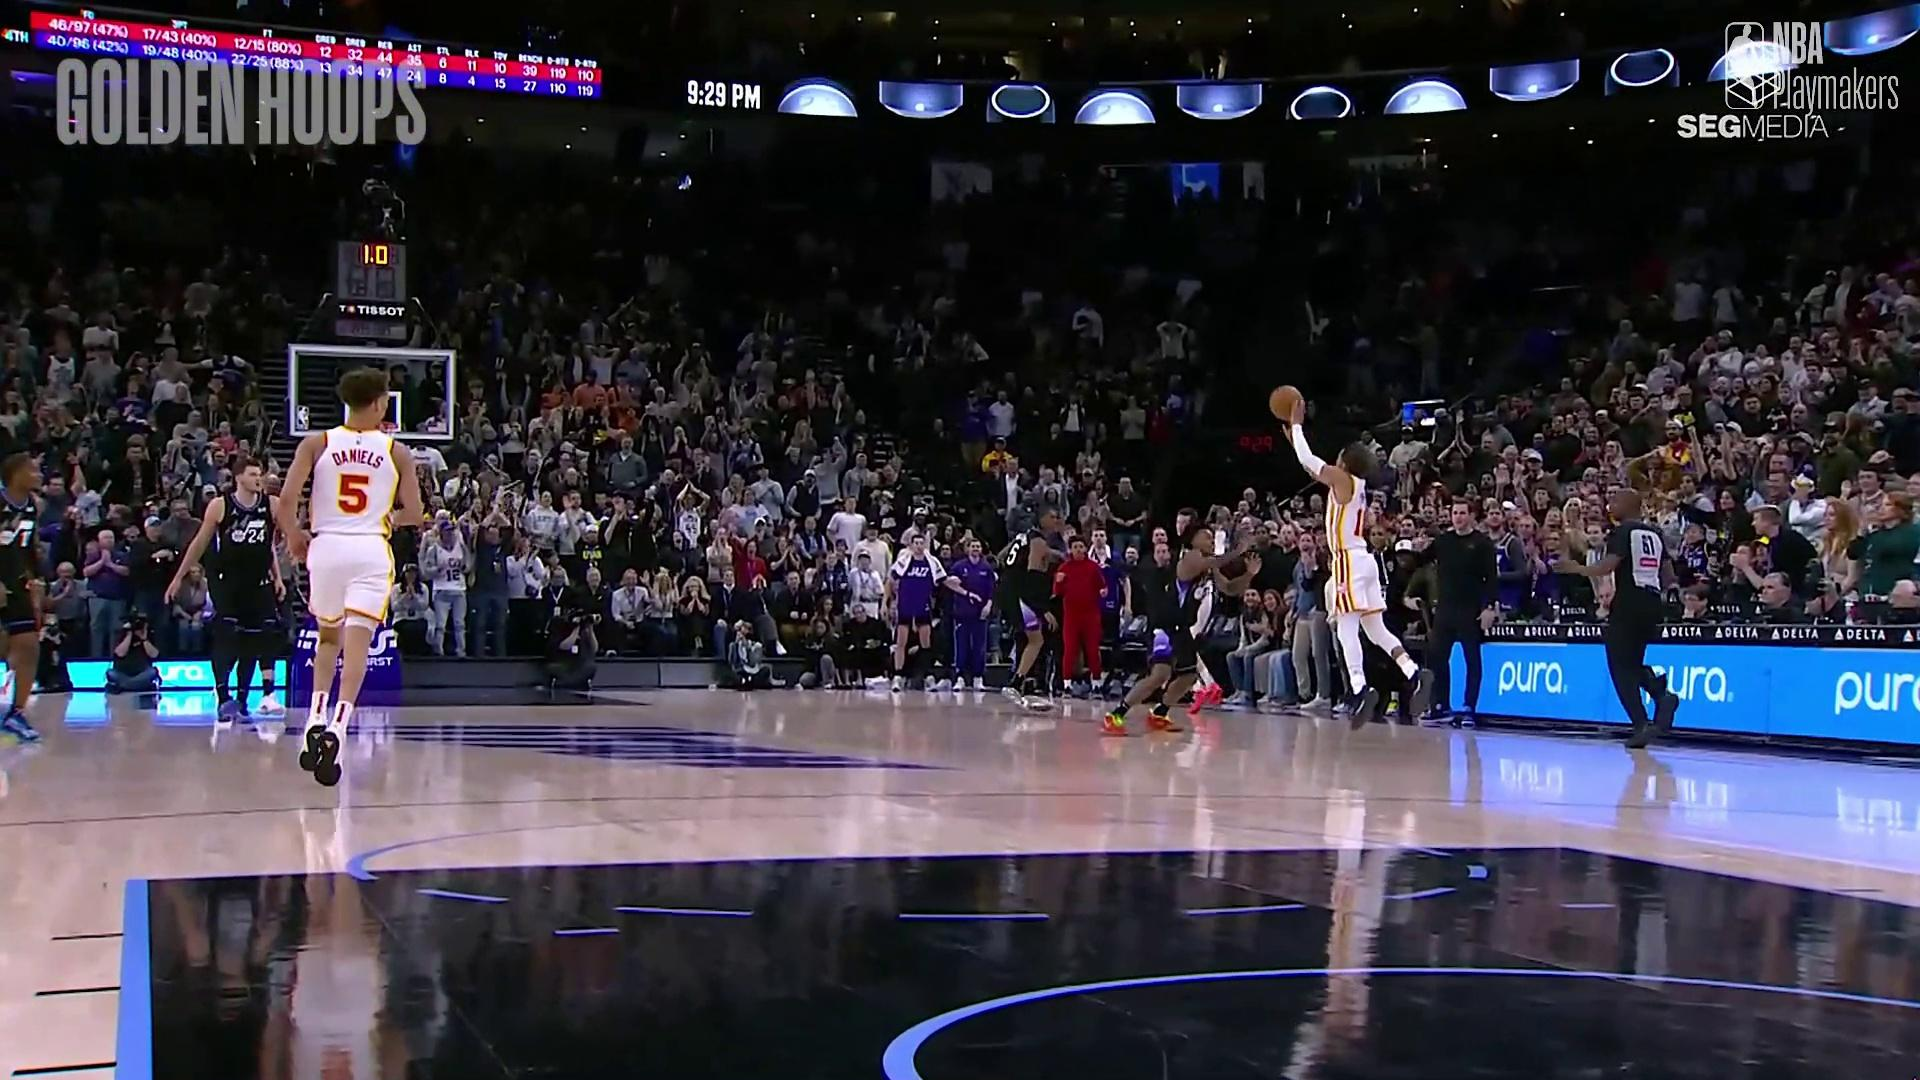ball: (1265, 377, 1307, 421)
